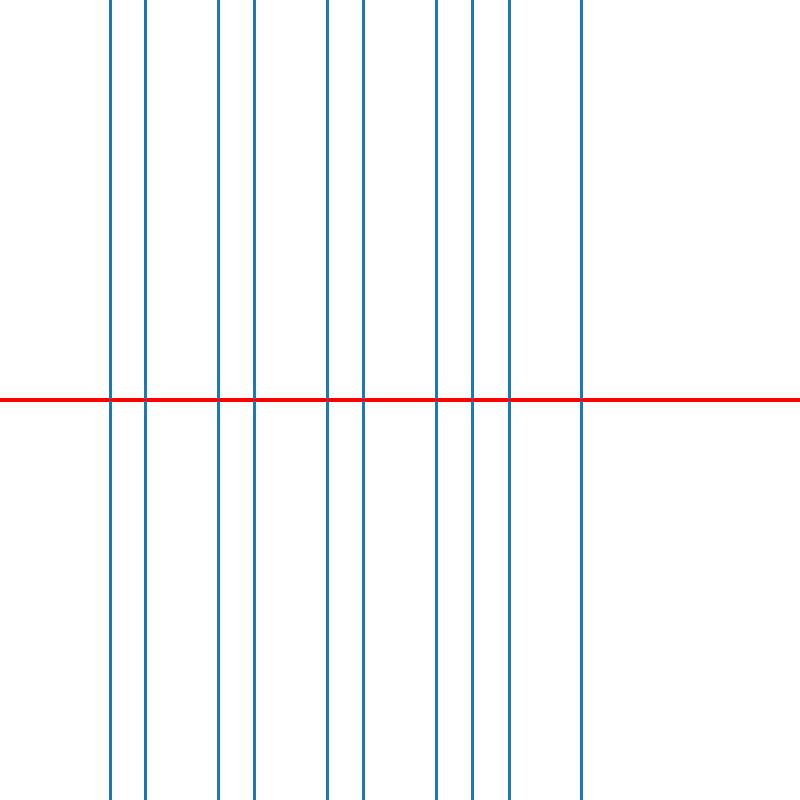root: (250, 396, 258, 404), (141, 396, 149, 404), (432, 396, 440, 404), (323, 396, 330, 404), (214, 396, 221, 404), (505, 396, 512, 404), (578, 396, 585, 404), (105, 396, 112, 404), (360, 396, 367, 404), (469, 396, 476, 404)
